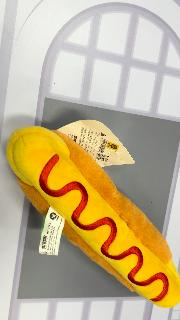hotdog: (7, 125, 180, 309)
